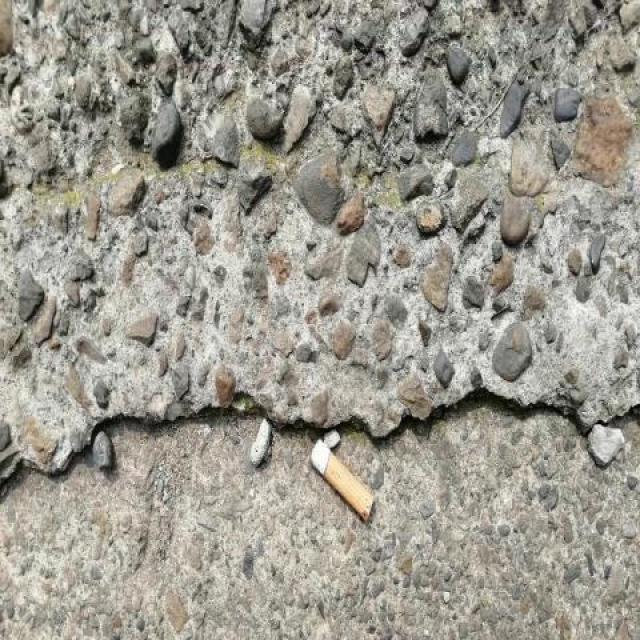non-organic waste: (306, 436, 378, 524)
